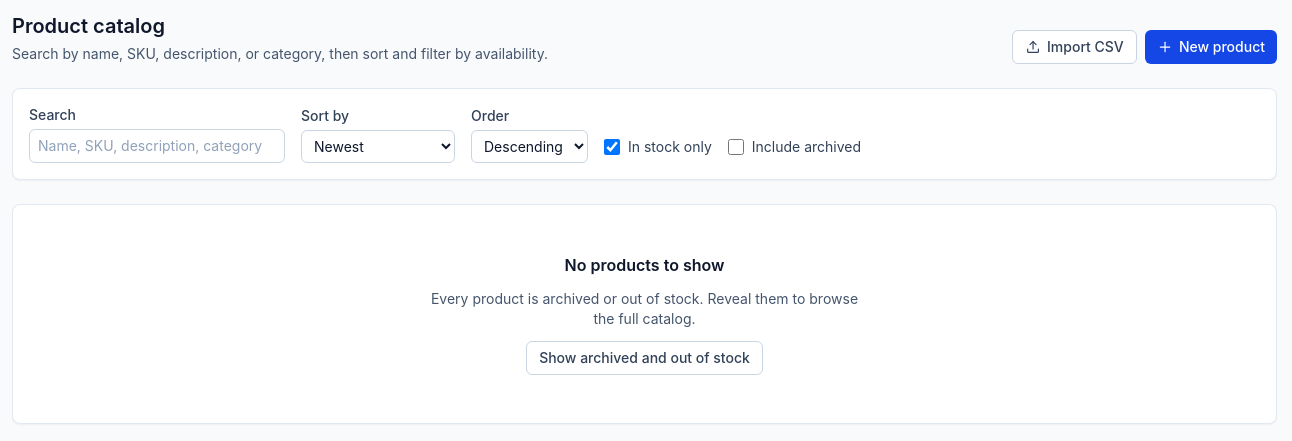
CatalogPage › asks for archived products only when that box is ticked
This screenshot has width=1292, height=441.
Click the checkbox labelled "Include archived" at coordinates (736, 147), box [728,139,744,155]
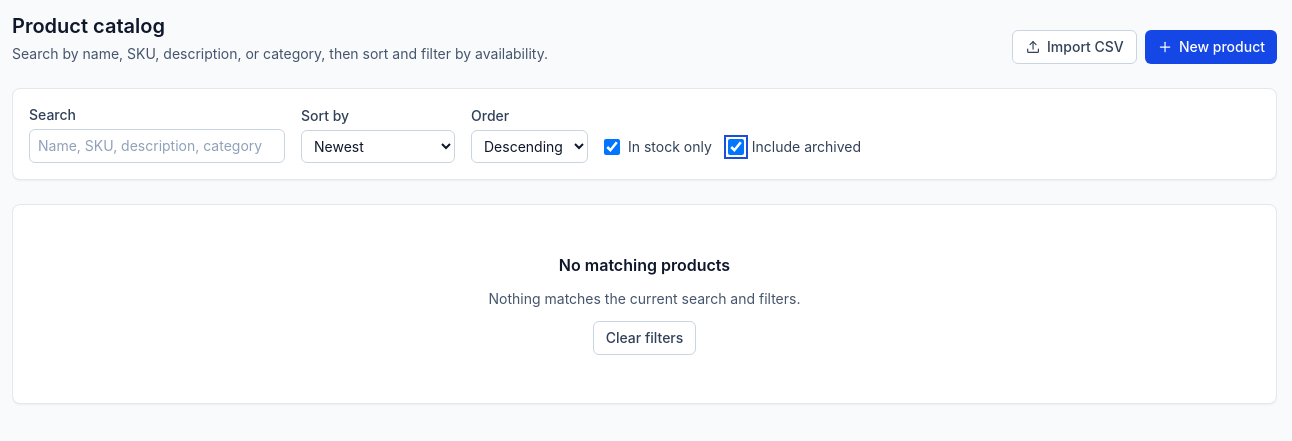
expect the text "No matching products" is shown: met, box [559,253,730,277]
